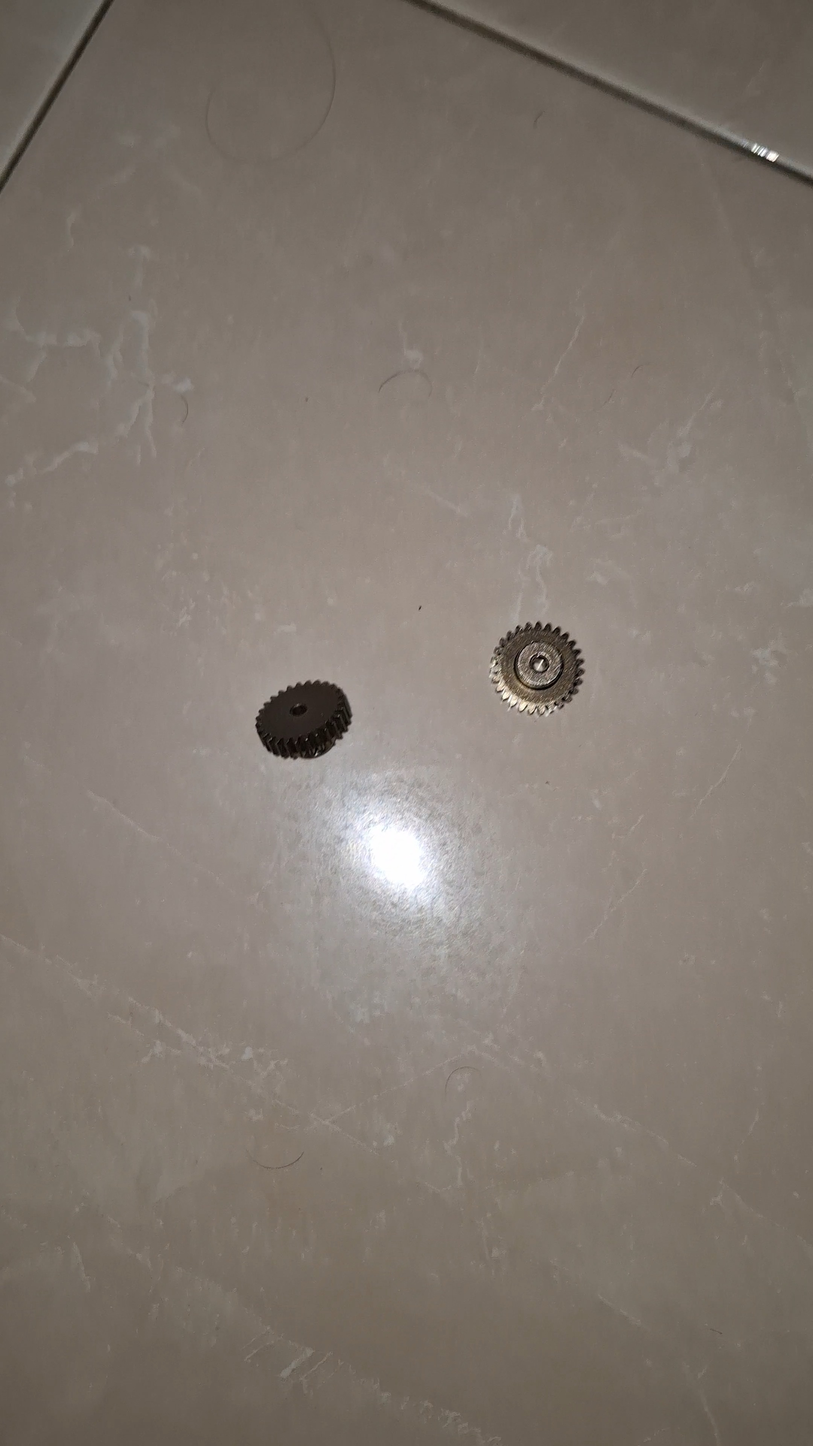spur gear: (492, 622, 583, 713), (256, 681, 351, 758)
